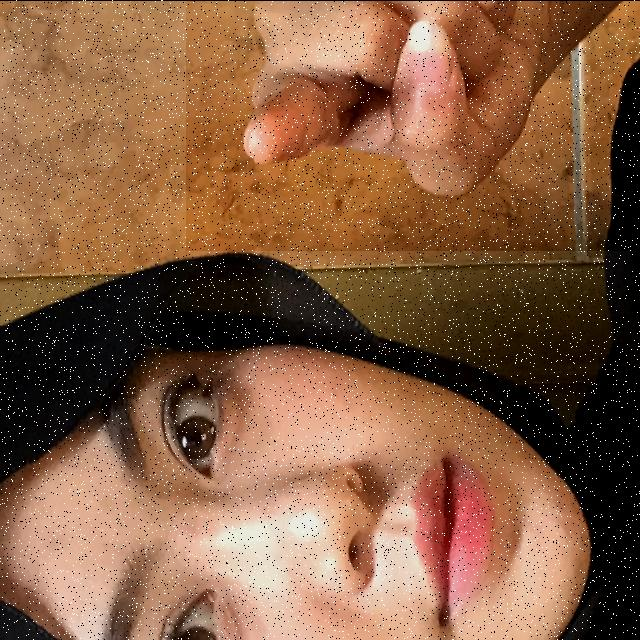kamu: (186, 0, 640, 250)
